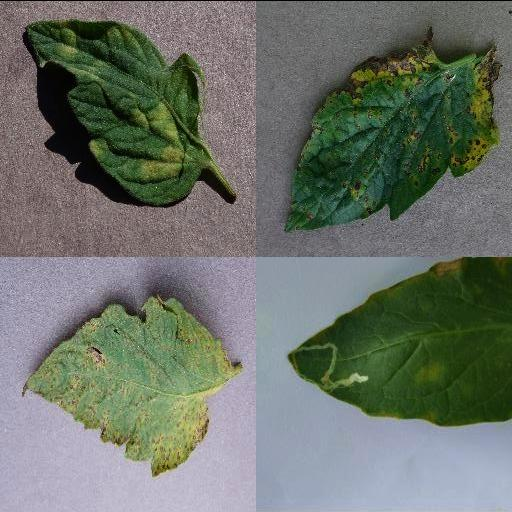Early Blight: (282, 31, 504, 232)
Leaf Miner: (284, 256, 512, 427)
Leaf Mold: (24, 18, 204, 205)
Septoria: (23, 290, 233, 474)
